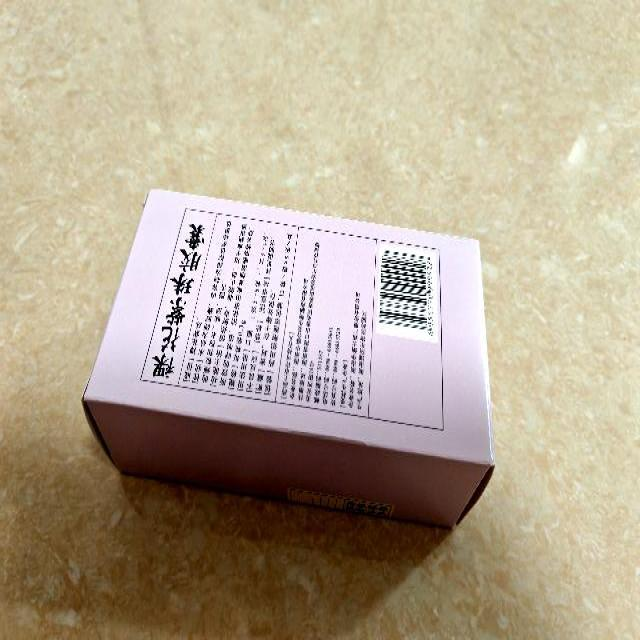box: (80, 186, 496, 529)
